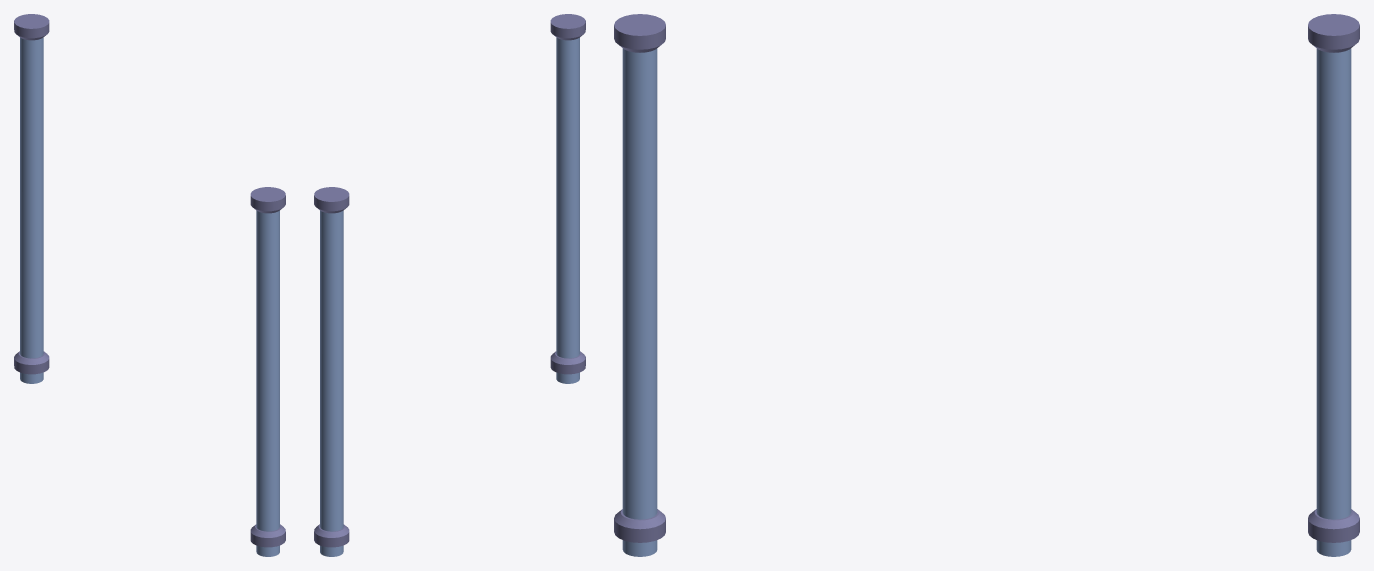
Rendered from columns.gltf.
3 views of the same model, side by side, from view 1: azimuth 30°, elevation 25°; view 2: azimuth 150°, elevation 25°; view 3: azimuth 270°, elevation 25° (orthographic). The views are drawn at different scales.
Visible parts, largest first — view 1: leftCol_geo, rightCol_geo, rightColTop_geo, leftColTop_geo, leftColBase_geo, rightColBase_geo; view 2: leftCol_geo, rightCol_geo, leftColTop_geo, rightColTop_geo, leftColBase_geo, rightColBase_geo; view 3: leftCol_geo, rightCol_geo, leftColTop_geo, rightColTop_geo, leftColBase_geo, rightColBase_geo.
Boxes of the visible parts, x1,y1,x2,y2 form: leftCol_geo: (20, 37, 43, 383); rightCol_geo: (256, 210, 279, 556); rightColTop_geo: (250, 187, 285, 213); leftColTop_geo: (14, 14, 49, 40); leftColBase_geo: (14, 351, 49, 374); rightColBase_geo: (250, 524, 285, 547); leftCol_geo: (320, 210, 343, 556); rightCol_geo: (556, 37, 579, 383); leftColTop_geo: (314, 187, 349, 213); rightColTop_geo: (550, 14, 585, 40); leftColBase_geo: (314, 524, 349, 547); rightColBase_geo: (550, 351, 585, 374); leftCol_geo: (1316, 48, 1351, 556); rightCol_geo: (622, 48, 657, 556); leftColTop_geo: (1308, 14, 1359, 52); rightColTop_geo: (614, 14, 665, 52); leftColBase_geo: (1308, 509, 1359, 542); rightColBase_geo: (614, 509, 665, 542).
Size of the model in its own units: 1.2 by 13.35 by 17.2.
